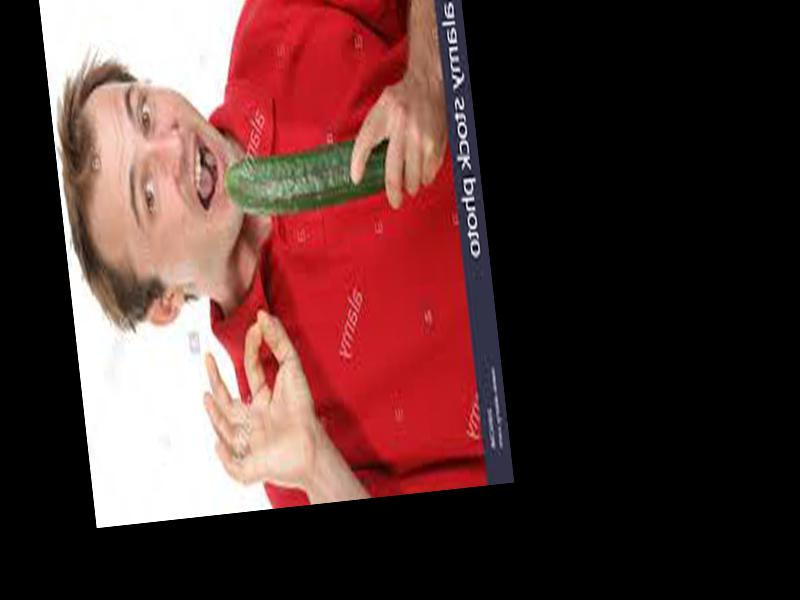Cucumber: (224, 143, 391, 211)
